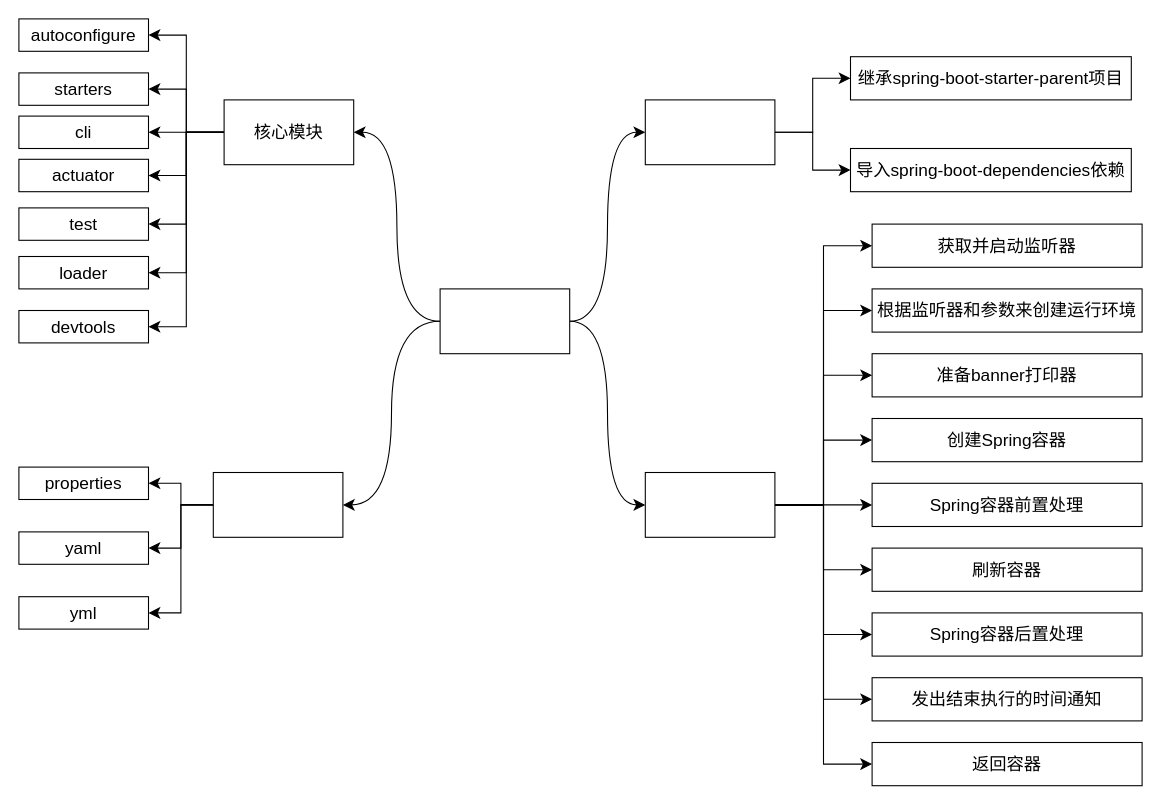
Some shapes in this 1161 by 805 pixel diagram are drawn without their labels. Here are the shapes that lost their labels. From the top down, the centre of each, then its label:
point (709, 132): 添加基础依赖包
point (504, 321): SpringBoot框架
point (277, 504): 配置文件格式
point (709, 504): 启动流程
